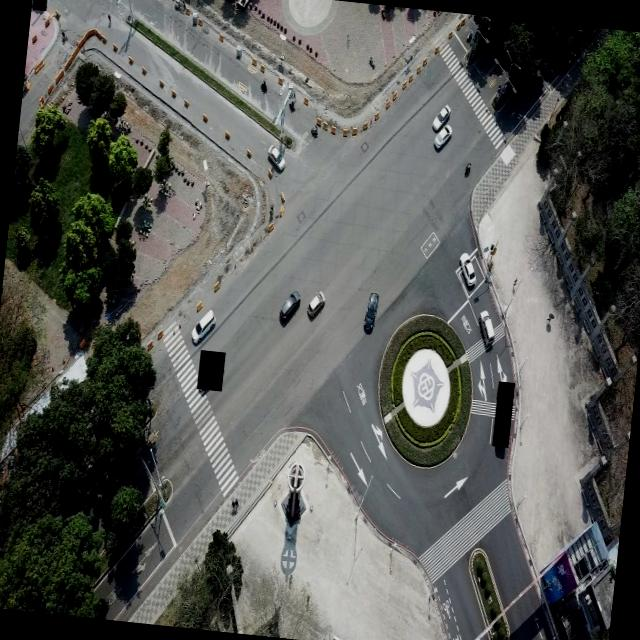bike: (464, 160, 471, 178)
car: (190, 307, 216, 346), (474, 308, 496, 351), (278, 286, 302, 324), (456, 250, 478, 289), (362, 290, 378, 332), (305, 288, 325, 320), (266, 144, 286, 172), (432, 102, 451, 130), (432, 126, 450, 150)
